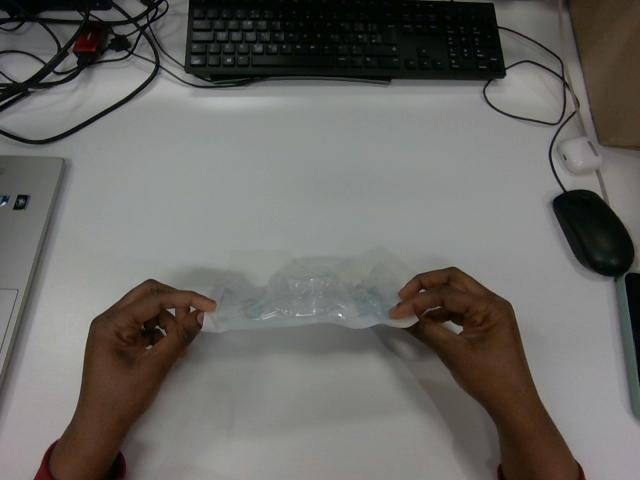gallipot: (203, 256, 416, 331)
